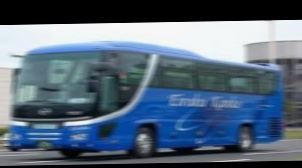bus: (9, 38, 287, 158)
